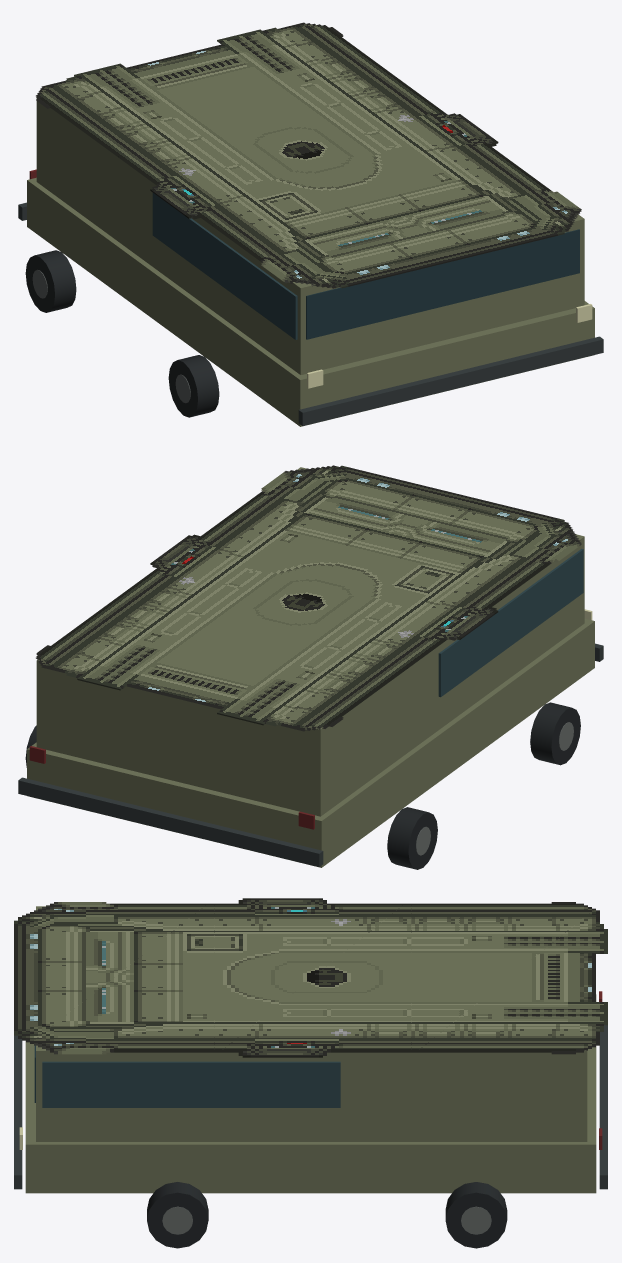
The model's file is CMU3DReduxVehicleSPPAPC.glb.
3 views of the same model, one above another, from view 1: azimuth 30°, elevation 25°; view 2: azimuth 150°, elevation 25°; view 3: azimuth 270°, elevation 25° (orthographic). The views are drawn at different scales.
Visible parts, largest first — view 1: source hull roof panel (×3), upper hull, closed lower chassis, cab windscreen, cab side window, front bumper, road tire (×2); view 2: source hull roof panel (×3), upper hull, closed lower chassis, cab side window, rear bumper, road tire (×2); view 3: source hull roof panel (×3), upper hull, closed lower chassis, cab side window, road tire (×2), wheel hub (×2), rear bumper, front bumper.
Part boxes in pixels (bbox=[...]): source hull roof panel (×3): bbox=[36, 22, 581, 288]; upper hull: bbox=[36, 98, 584, 374]; closed lower chassis: bbox=[27, 177, 594, 426]; cab windscreen: bbox=[306, 229, 579, 339]; cab side window: bbox=[152, 193, 297, 339]; front bumper: bbox=[298, 336, 603, 425]; road tire (×2): bbox=[25, 250, 219, 417]; source hull roof panel (×3): bbox=[36, 465, 581, 731]; upper hull: bbox=[36, 467, 584, 816]; closed lower chassis: bbox=[27, 618, 594, 867]; cab side window: bbox=[438, 549, 583, 697]; rear bumper: bbox=[18, 777, 323, 866]; road tire (×2): bbox=[387, 702, 580, 869]; source hull roof panel (×3): bbox=[14, 898, 607, 1057]; upper hull: bbox=[36, 906, 587, 1141]; closed lower chassis: bbox=[25, 994, 596, 1193]; cab side window: bbox=[42, 1061, 340, 1107]; road tire (×2): bbox=[147, 1182, 507, 1248]; wheel hub (×2): bbox=[162, 1206, 491, 1234]; rear bumper: bbox=[599, 1025, 607, 1189]; front bumper: bbox=[14, 1035, 22, 1189].
Size of the model in its own units: 3.6 by 1.49 by 4.62.
11 materials, 3 textured.
